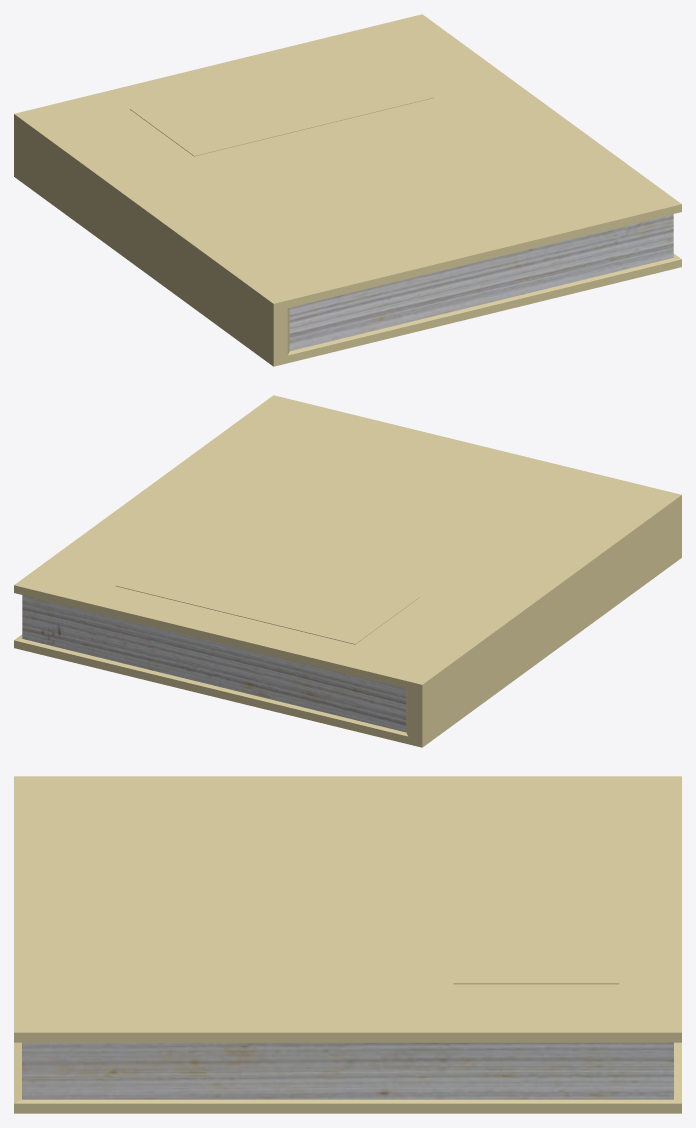
Rendered from Livroazul.fbx.
The picture shows the model from 3 angles, top to bottom: view 1: azimuth 30°, elevation 25°; view 2: azimuth 150°, elevation 25°; view 3: azimuth 270°, elevation 25°; orthographic projection. The views are drawn at different scales.
Visible parts, largest first — view 1: Cube.002; view 2: Cube.002; view 3: Cube.002.
Boxes of the visible parts, left/top/right/bottom form: Cube.002: left=14, top=14, right=681, bottom=366; Cube.002: left=14, top=395, right=681, bottom=747; Cube.002: left=14, top=776, right=681, bottom=1113.
Size of the model in its own units: 25.93 by 3.85 by 28.55.
